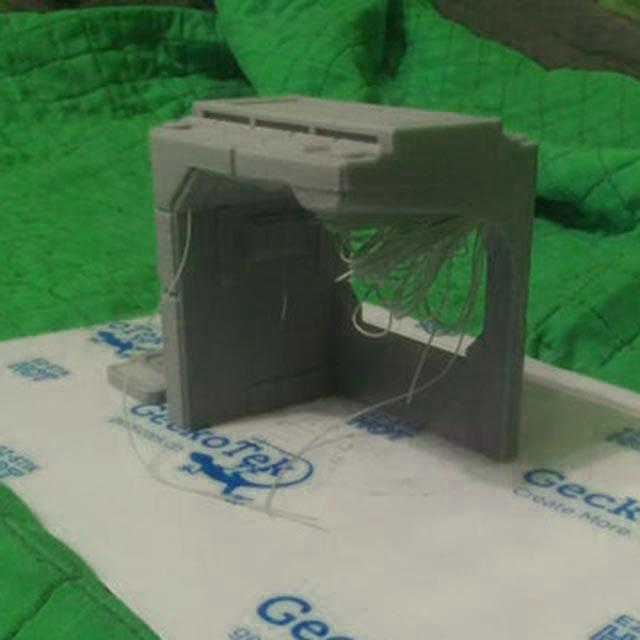Spaghetti: (316, 198, 502, 410)
